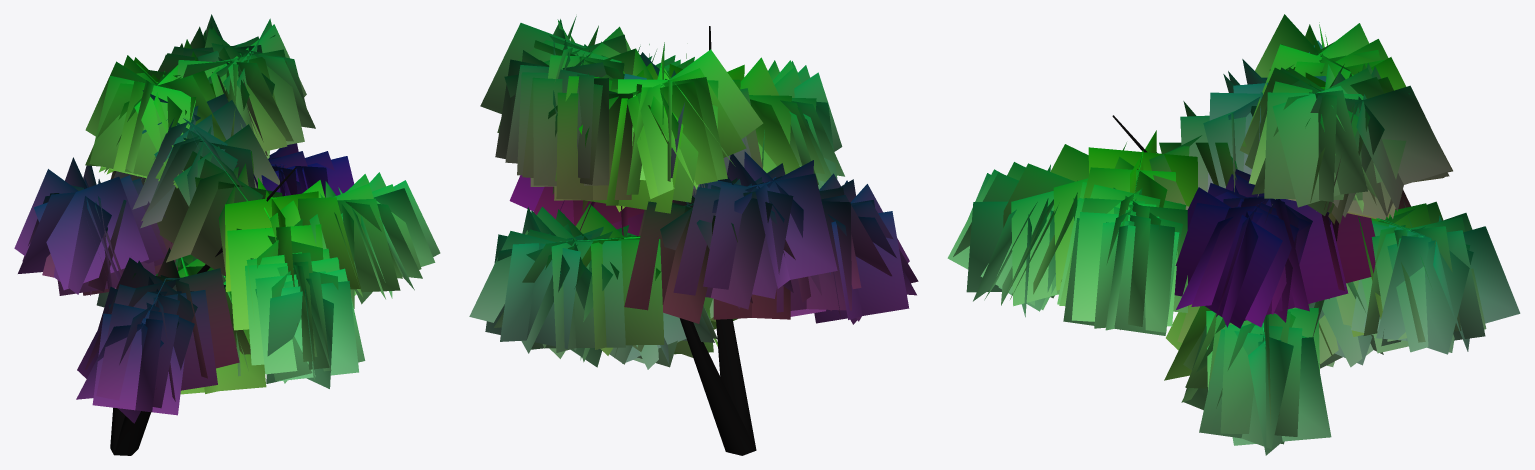
File: URP_P13_Tree_6_LOD_3.fbx
The picture shows the model from 3 angles, left to right: view 1: azimuth 30°, elevation 25°; view 2: azimuth 150°, elevation 25°; view 3: azimuth 270°, elevation 25°; orthographic projection. The views are drawn at different scales.
Visible parts, largest first — view 1: Tree_6_LOD_3; view 2: Tree_6_LOD_3; view 3: Tree_6_LOD_3.
Part boxes in pixels (box(x1,y1,x2,y2)): Tree_6_LOD_3: box(14, 14, 440, 455); Tree_6_LOD_3: box(469, 16, 918, 455); Tree_6_LOD_3: box(947, 14, 1520, 455).
Bounding box in the file's own units: 446 × 459 × 561.
